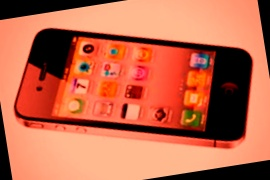iphone: (12, 16, 256, 163)
